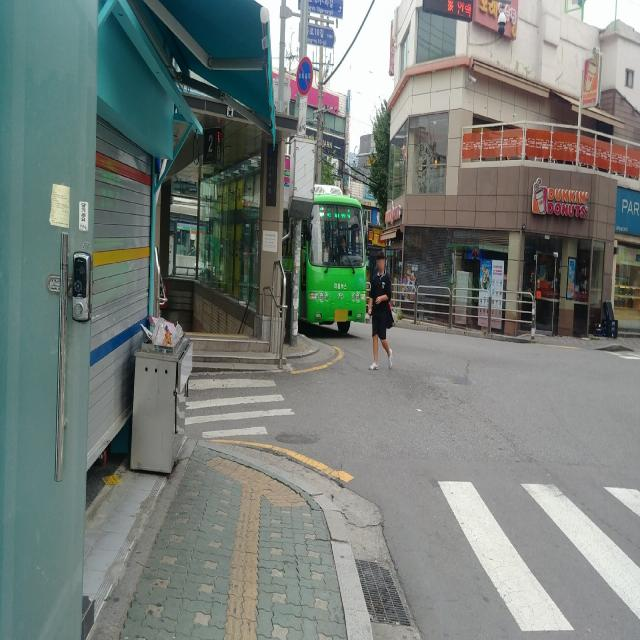빨간불: (423, 470, 640, 640)
횡단보도: (185, 378, 295, 438)
